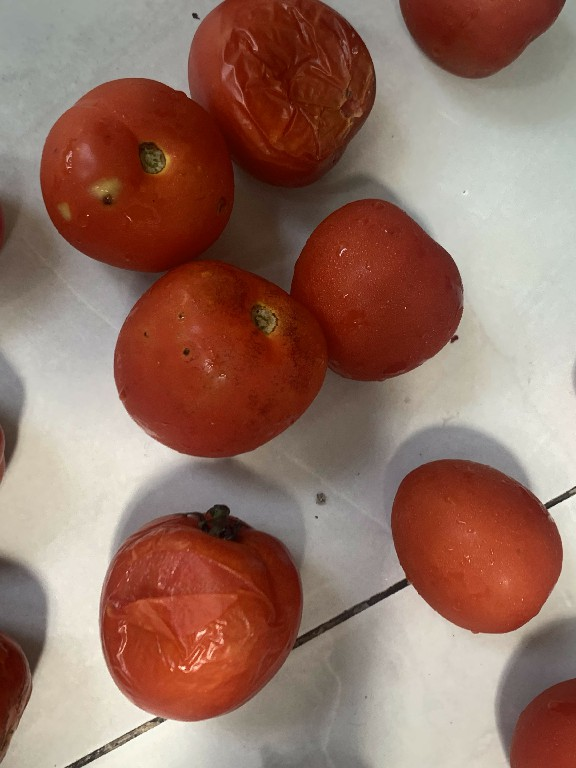NG: (94, 493, 317, 724), (36, 47, 251, 265), (111, 263, 334, 457), (189, 0, 377, 184)
OK: (377, 441, 569, 643), (290, 191, 476, 382)
